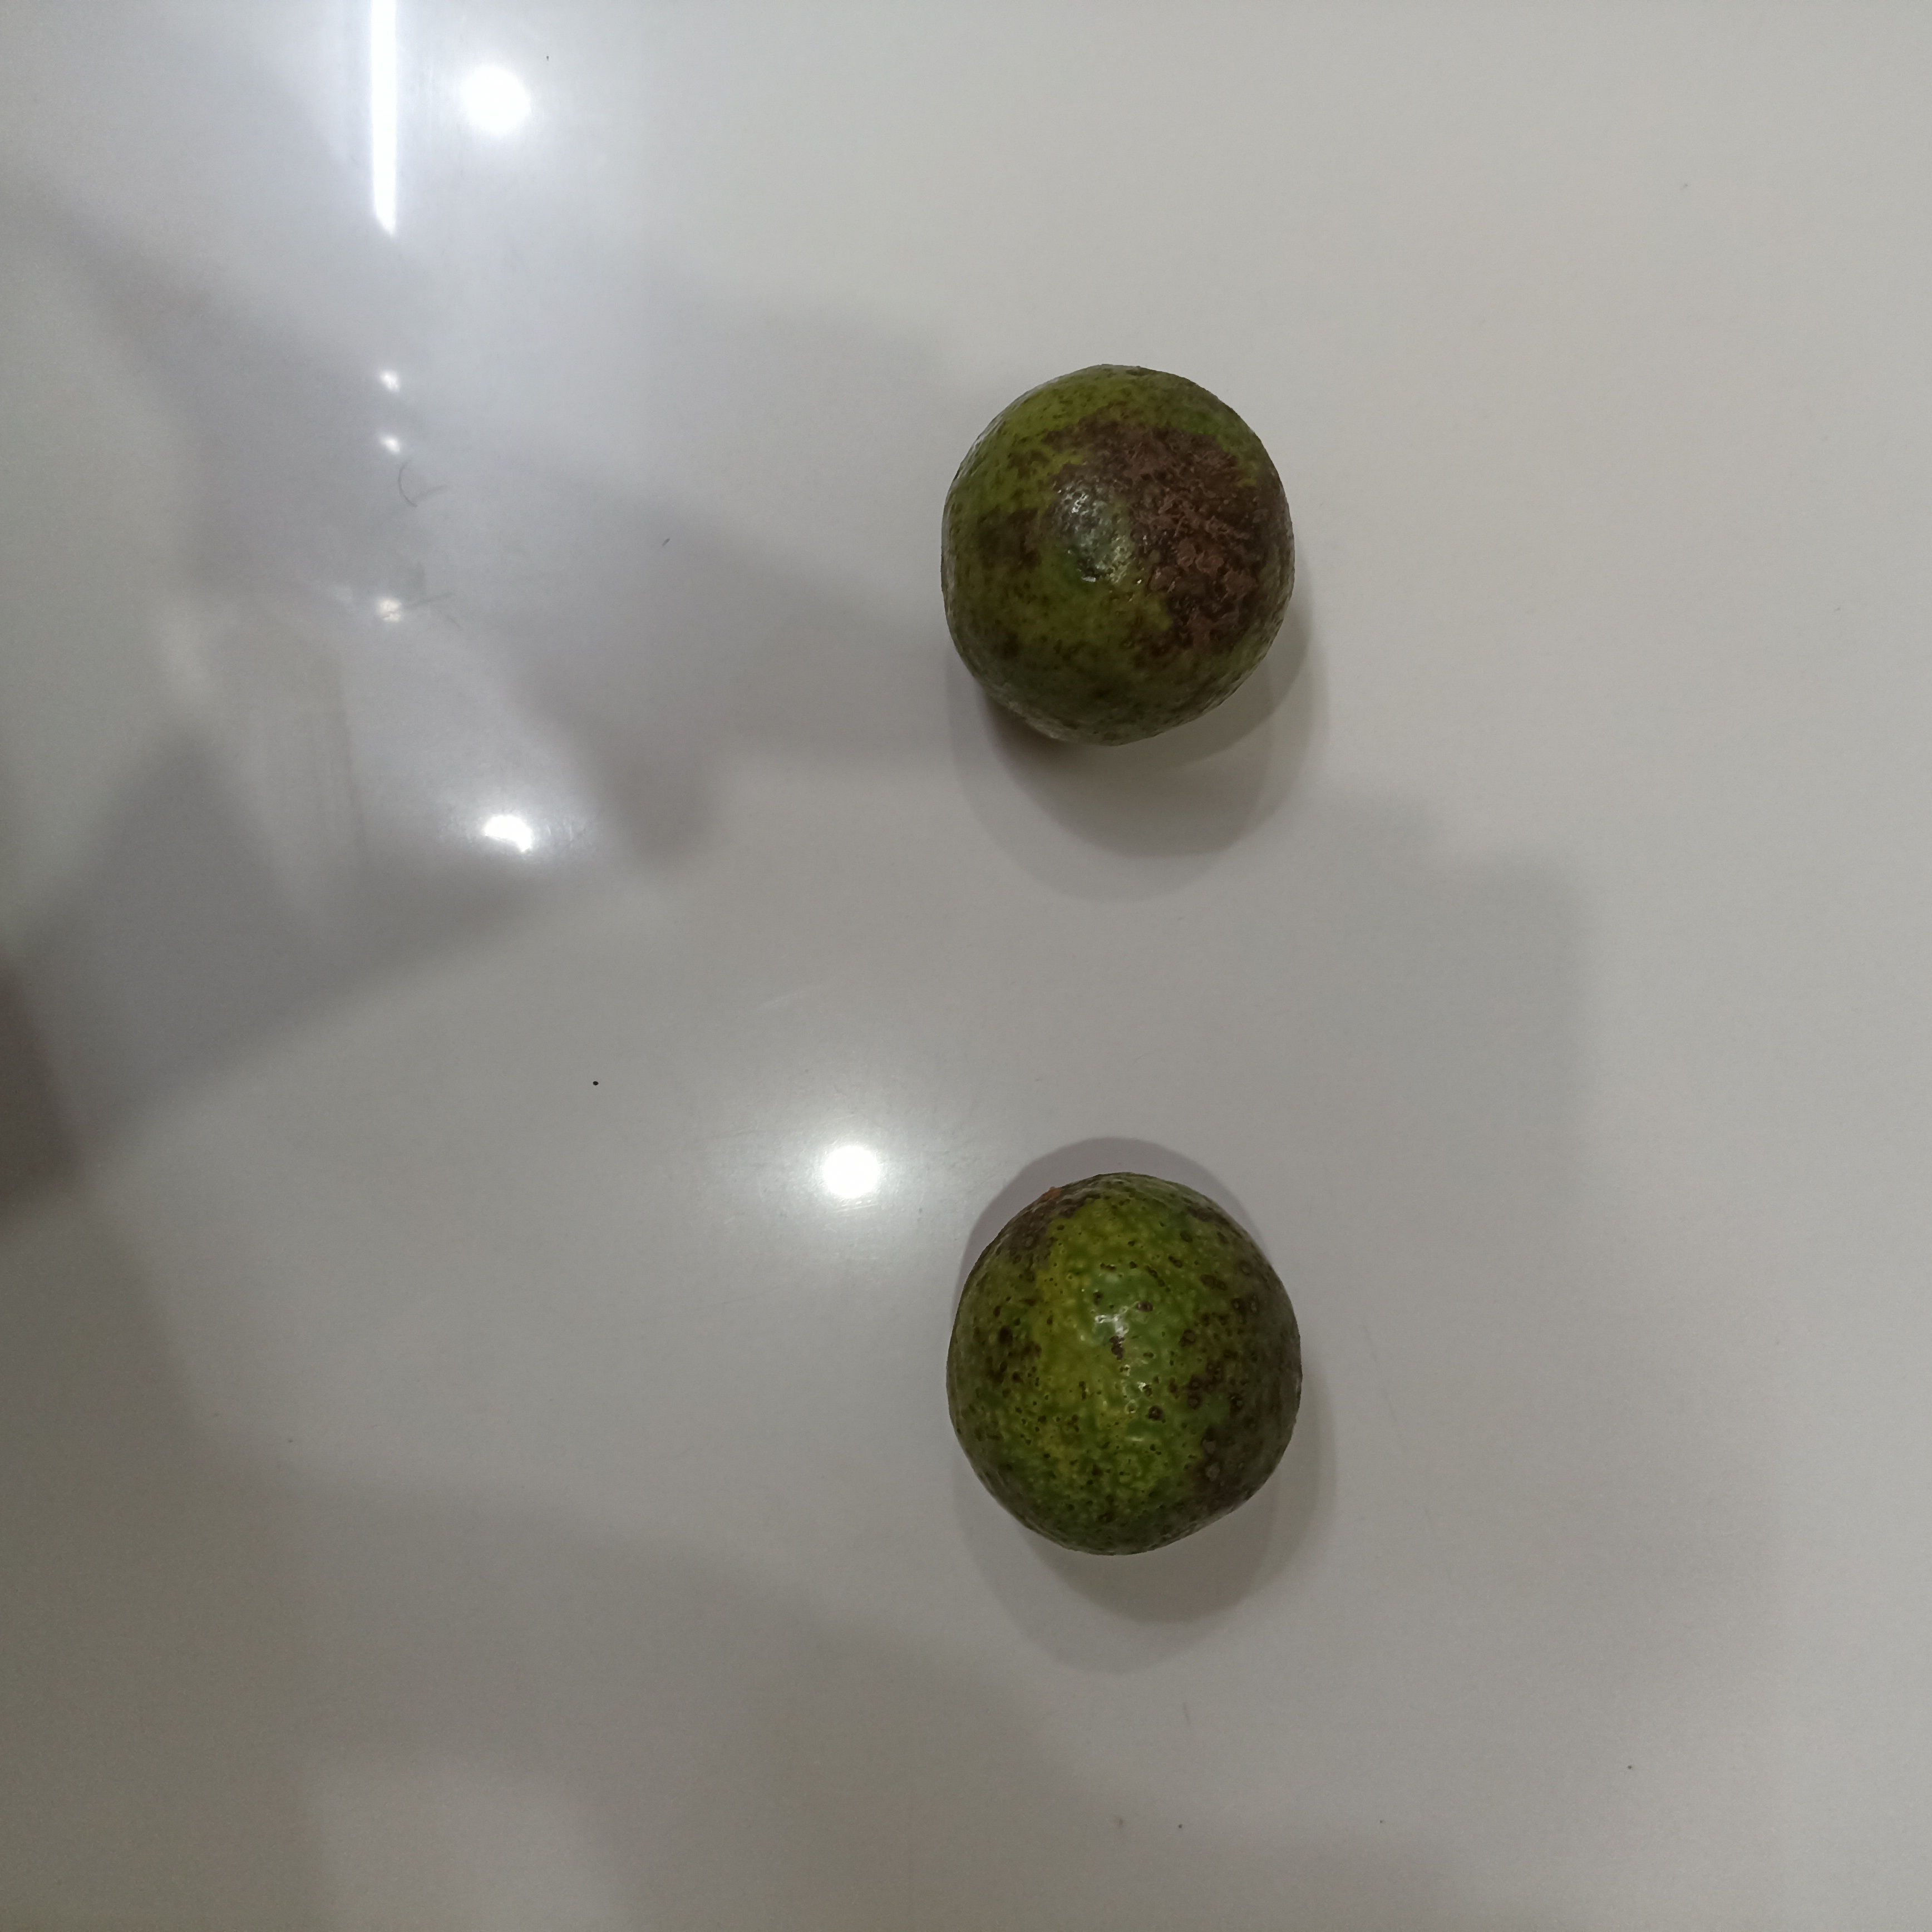Bo: (947, 1169, 1313, 1564), (936, 361, 1297, 738)
